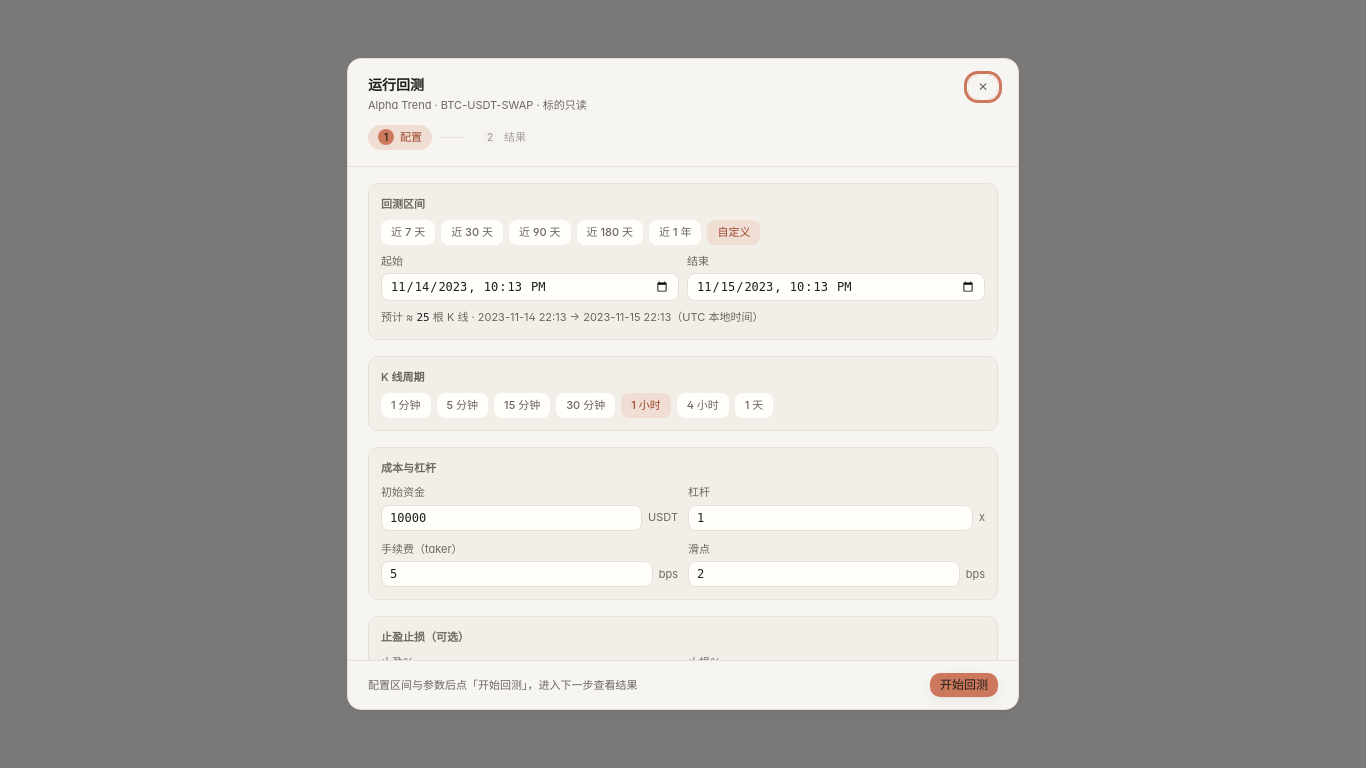
Test case: BacktestConfigModal › returns to the config step without re-running when back is clicked
The width and height of the screenshot is (1366, 768).
Click the button "开始回测" at (964, 685), box 930,673 -> 998,697
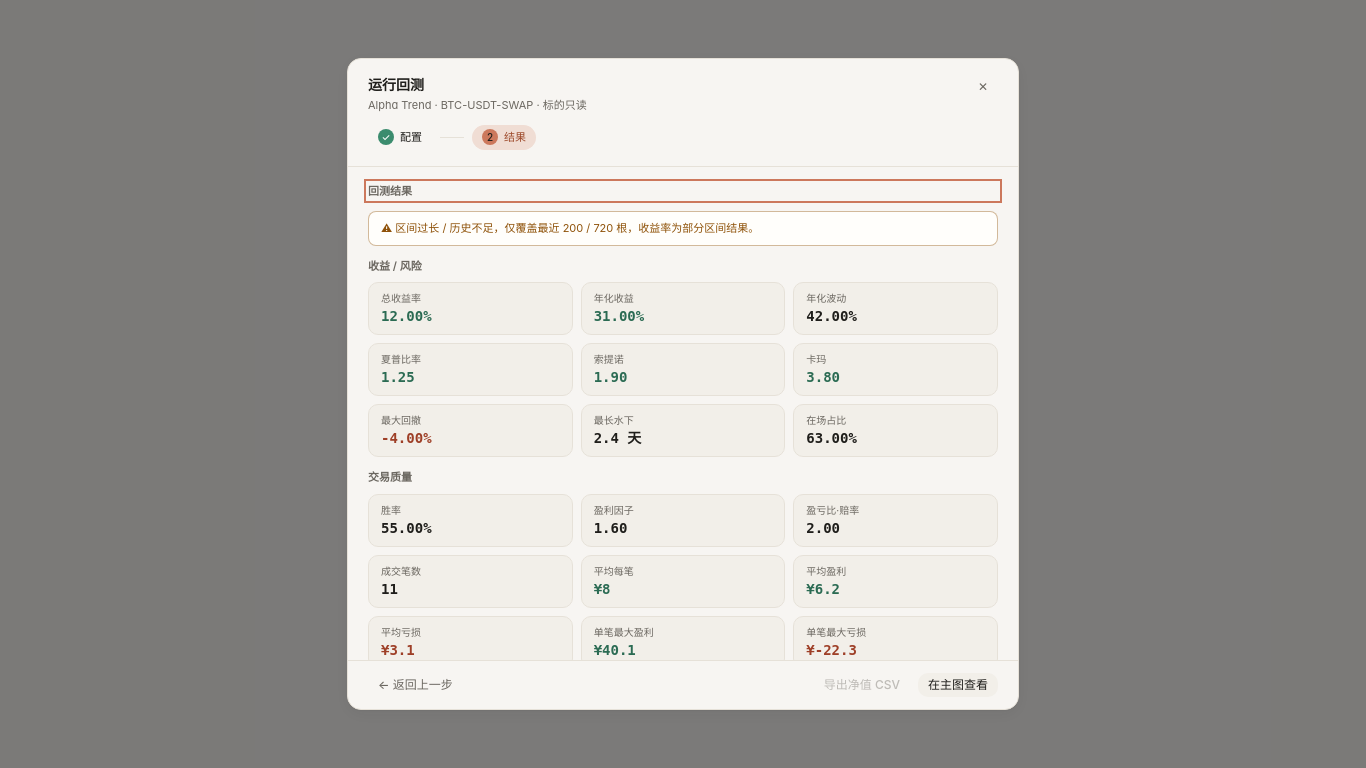
Click the button "← 返回上一步" at (415, 685), box 368,673 -> 463,697
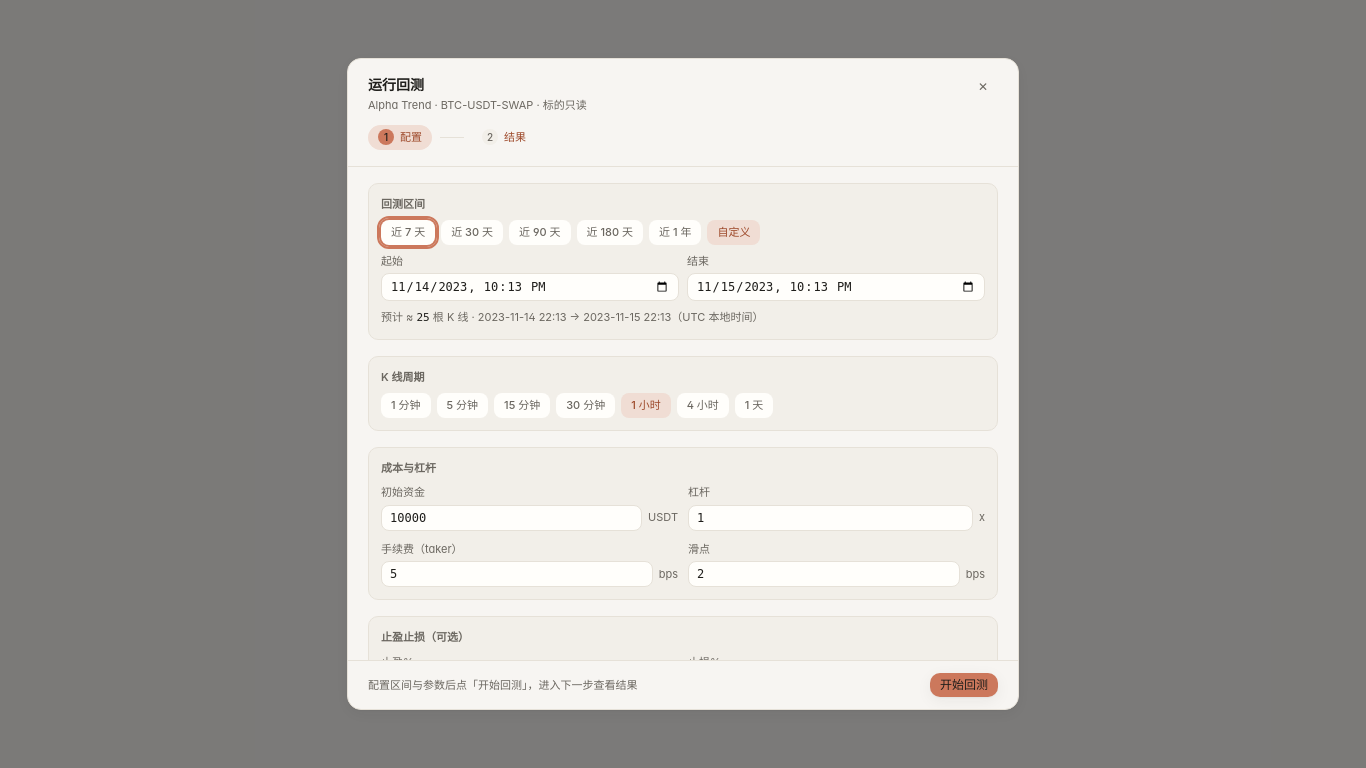
Check: the button "近 30 天" is shown, box 441,220 -> 503,245
Check: the text "12.00%" is gone
